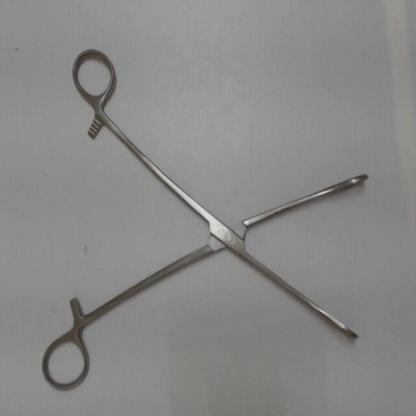Sponge Forceps: (36, 43, 380, 401)
